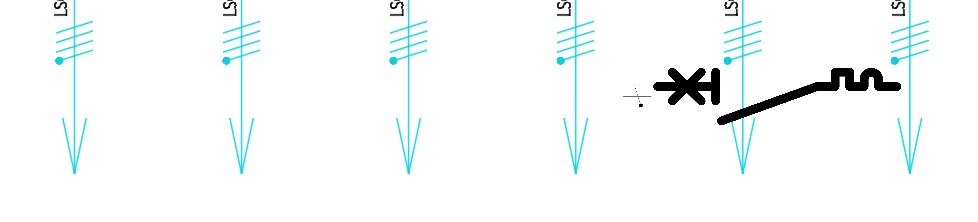interruptor_termomagnetico: (651, 66, 903, 127)
